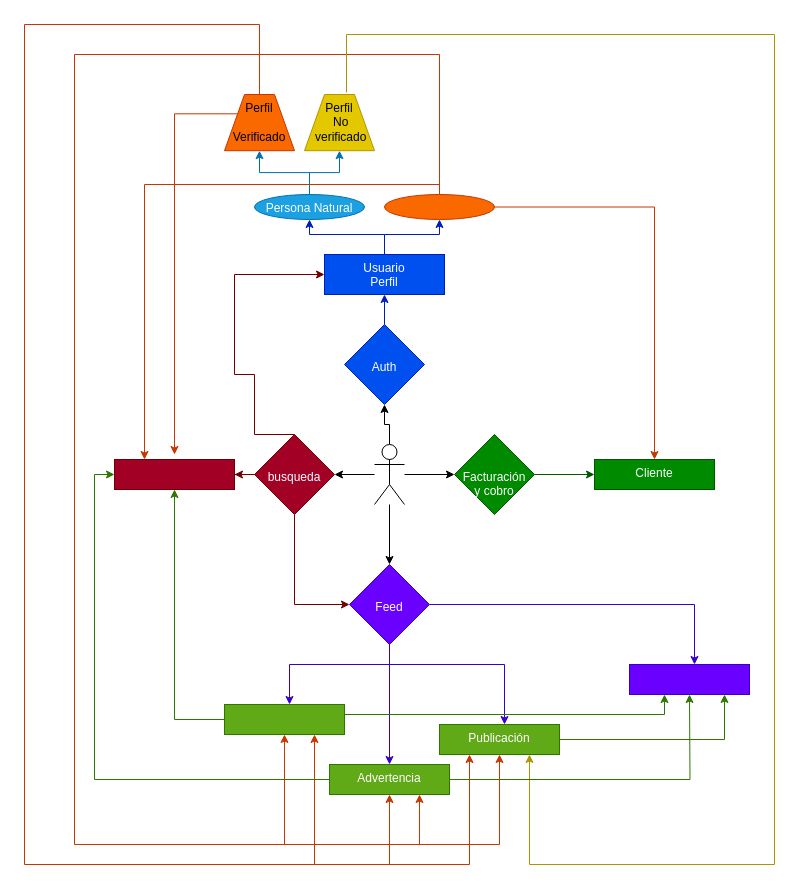
This 800x890 diagram has some shape labels left out. Here are the shapes that lost their labels. From the top down, the centre of each, then its label:
At (x=439, y=207): "Persona Juridica".
At (x=174, y=474): "cases".
At (x=389, y=474): "Actor".
At (x=689, y=679): "tweet".
At (x=284, y=719): "Denuncia".
